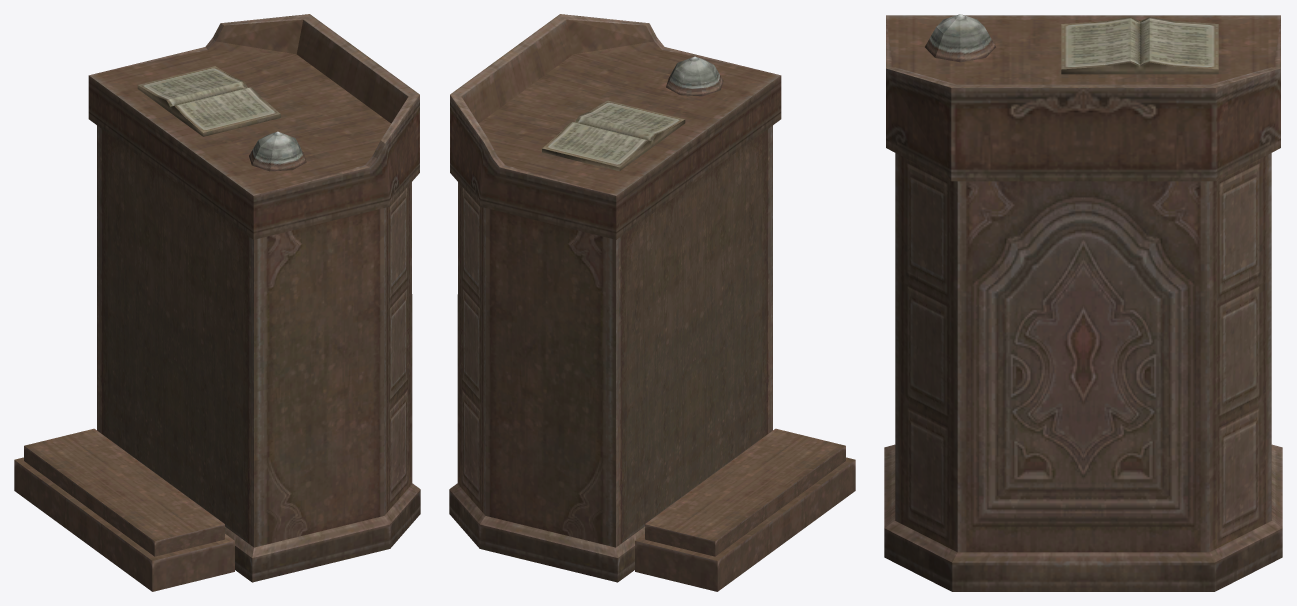
Rendered from bg_lut_lucastle_furniture05_sm_artree.FBX.
3 renders of one model, left to right at view 1: azimuth 30°, elevation 25°; view 2: azimuth 150°, elevation 25°; view 3: azimuth 270°, elevation 25°, orthographic. The views are drawn at different scales.
Visible parts, largest first — view 1: bg_lut_lucastle_furniture05_sm_artree; view 2: bg_lut_lucastle_furniture05_sm_artree; view 3: bg_lut_lucastle_furniture05_sm_artree.
Part boxes in pixels (<box>): bg_lut_lucastle_furniture05_sm_artree: <box>14,14,420,591</box>; bg_lut_lucastle_furniture05_sm_artree: <box>449,14,855,591</box>; bg_lut_lucastle_furniture05_sm_artree: <box>884,14,1282,591</box>.
Bounding box in the file's own units: 97.11 × 138 × 98.76.
